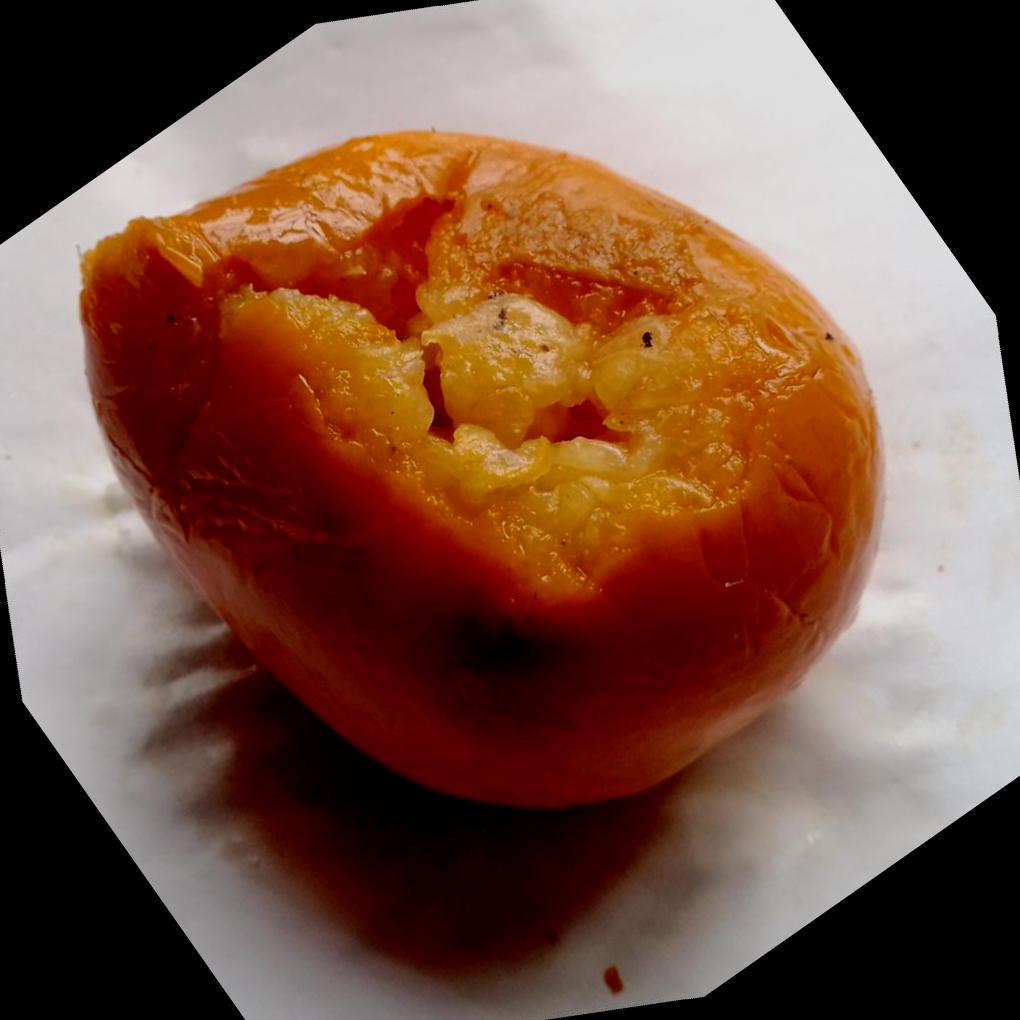FreshOrange: (71, 126, 886, 817)
